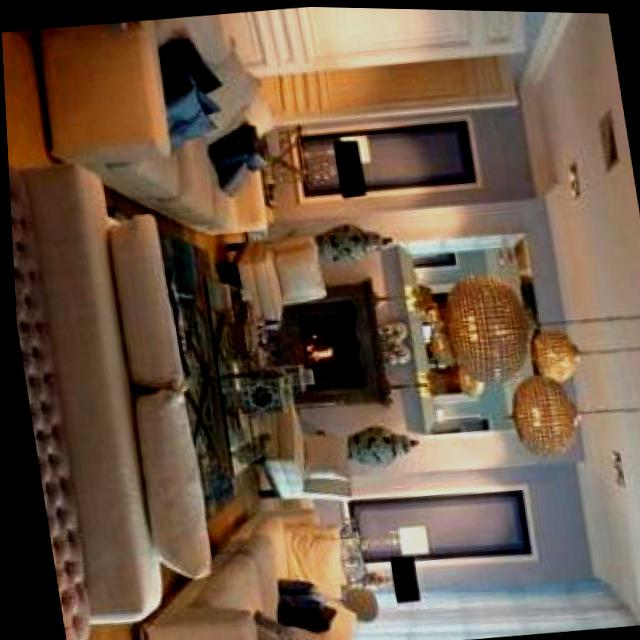helmet: (294, 331, 341, 368)
